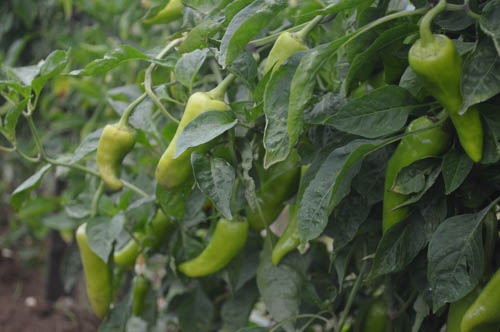ChiliPepper: (407, 35, 481, 162), (384, 114, 439, 239), (159, 93, 225, 194), (179, 218, 244, 288), (242, 155, 297, 236), (75, 227, 113, 319), (117, 211, 171, 264), (96, 125, 137, 194), (269, 233, 301, 269)
